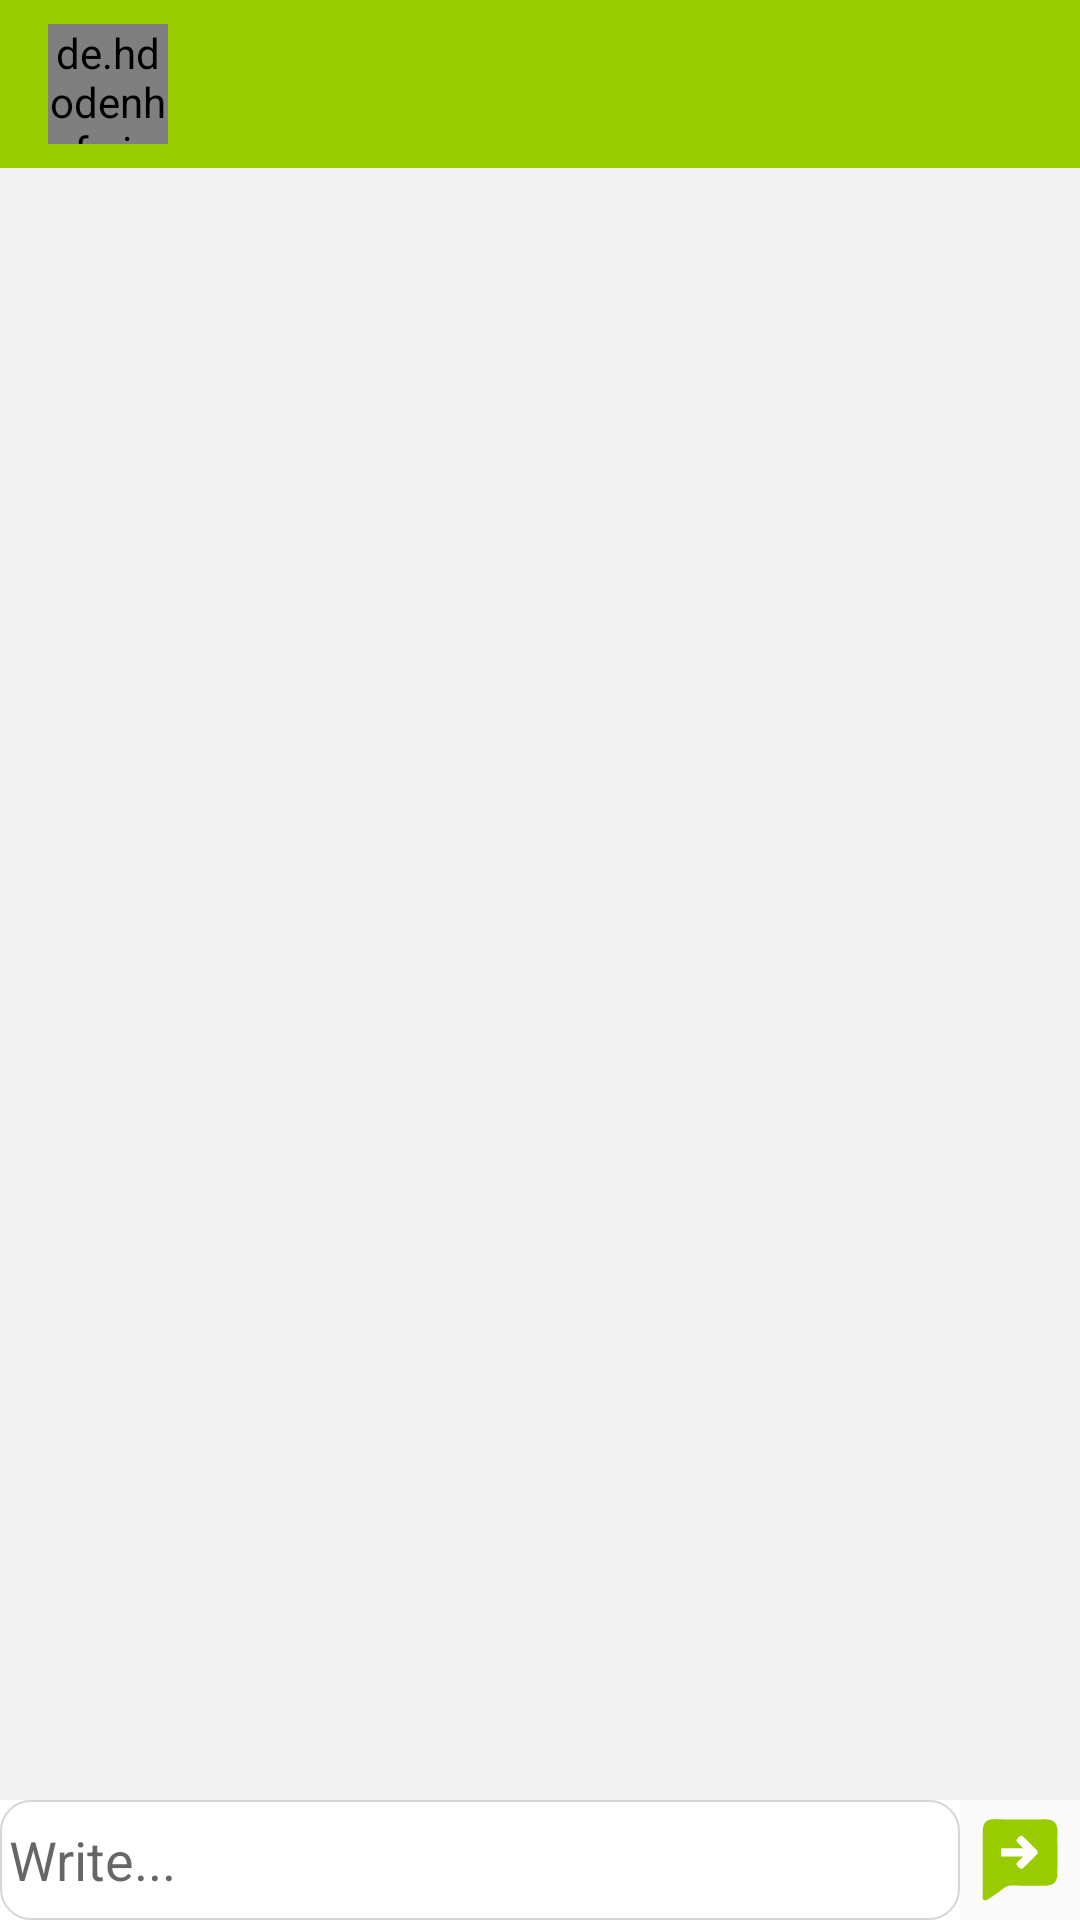

Icons on this 1080w x 1920h Android screen, each with the point to tap as (x=x, y=y):
send msg: (x=1020, y=1860)
